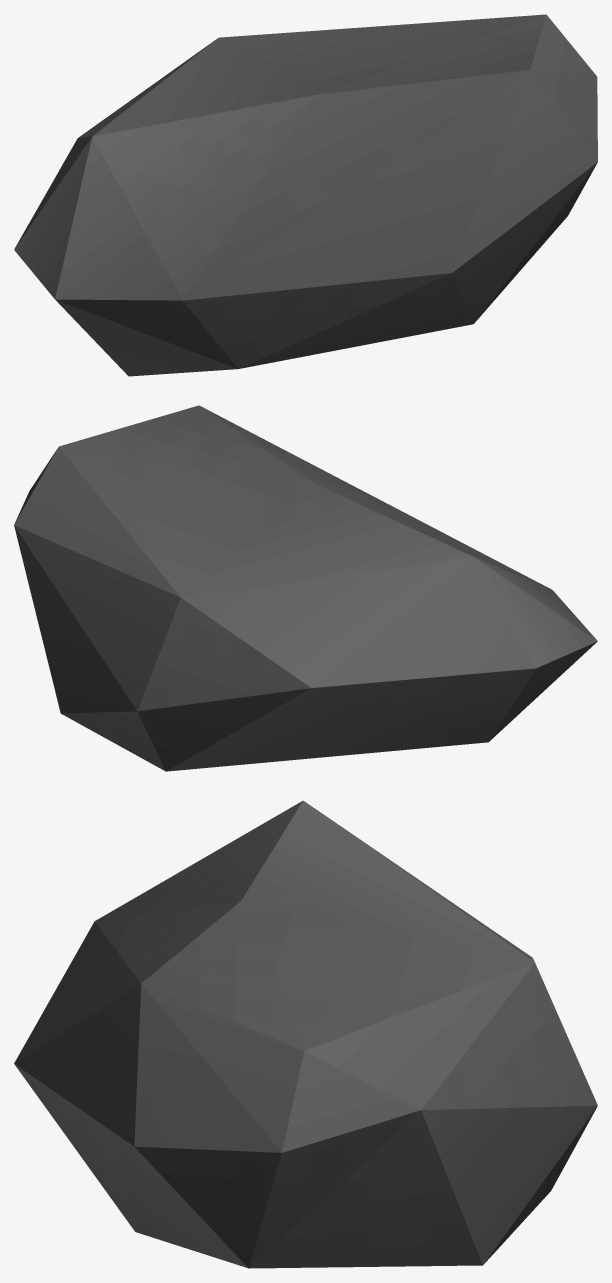
The model's file is pedrisco_b.glb.
3 views of the same model, one above another, from view 1: azimuth 30°, elevation 25°; view 2: azimuth 150°, elevation 25°; view 3: azimuth 270°, elevation 25° (orthographic). The views are drawn at different scales.
Parts seen in each view (by area): view 1: RockSmallE; view 2: RockSmallE; view 3: RockSmallE.
Part boxes in pixels (box(x1,y1,x2,y2)): RockSmallE: box(14, 14, 597, 376); RockSmallE: box(14, 405, 597, 771); RockSmallE: box(14, 800, 597, 1268).
Size of the model in its own units: 0.3508 by 0.1528 by 0.2566.
1 material, 1 textured.
